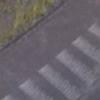crosswalks: (0, 17, 100, 100)
